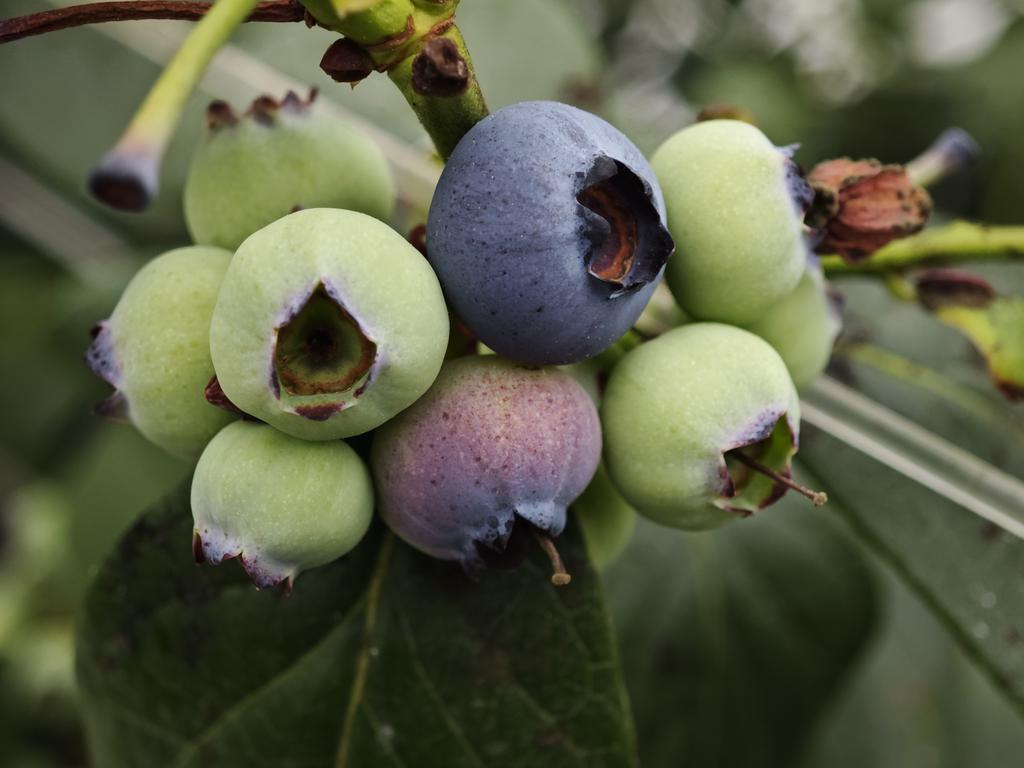RipeBlueBerry: (429, 97, 676, 366)
Semi-RipeBlueBerry: (375, 355, 605, 571)
UnripeBlueBerry: (205, 203, 455, 443), (603, 319, 805, 531)
